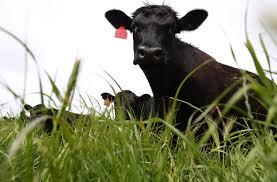cow: (104, 5, 277, 161), (23, 104, 114, 138), (100, 89, 156, 126)
